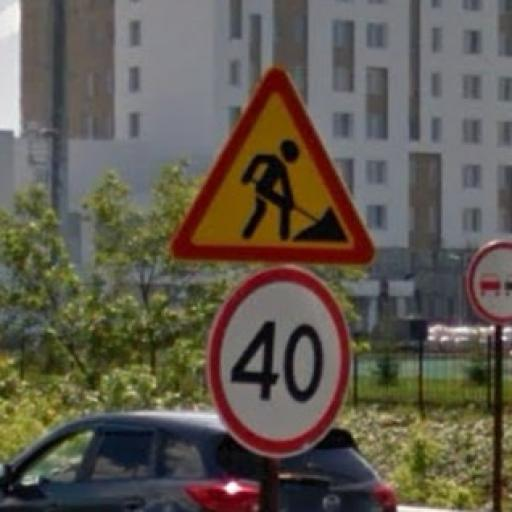traffic_sign: (167, 66, 378, 266), (207, 266, 354, 459)
